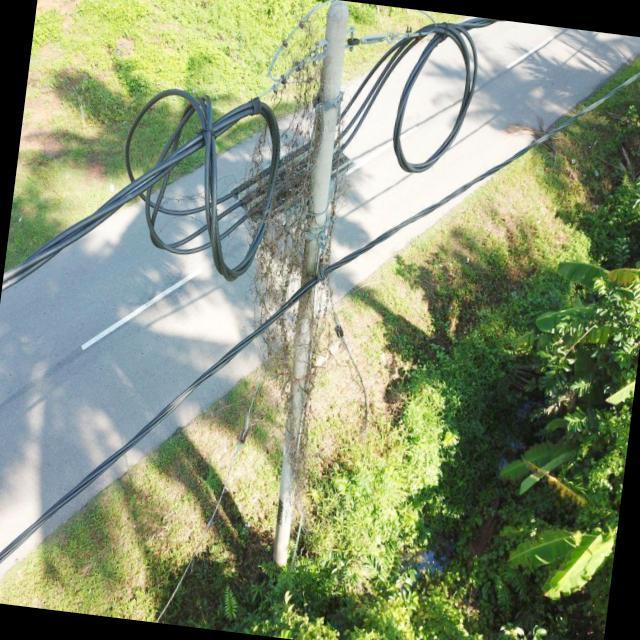critical vegetation: (218, 11, 418, 496)
